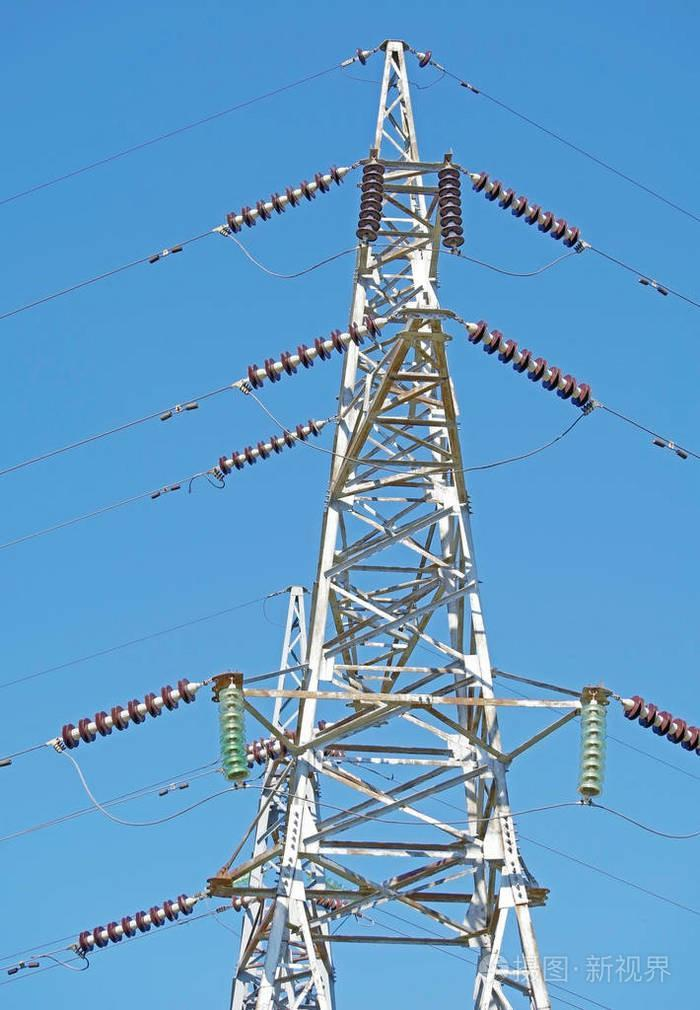power_tower: (187, 20, 607, 1010)
